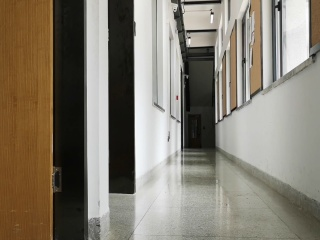room: (2, 1, 95, 240)
